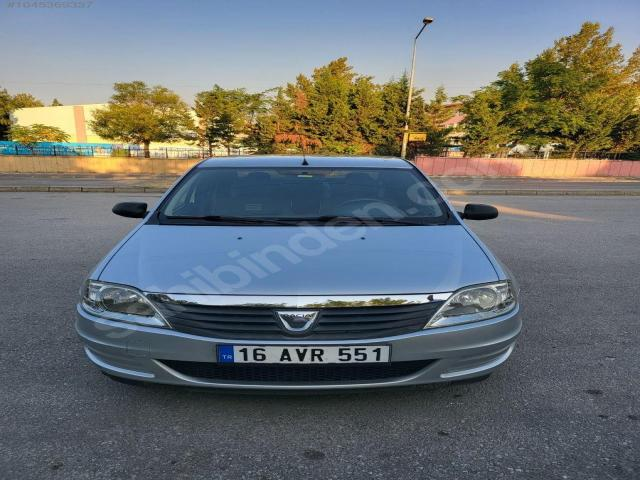plaka: (218, 345, 389, 364)
